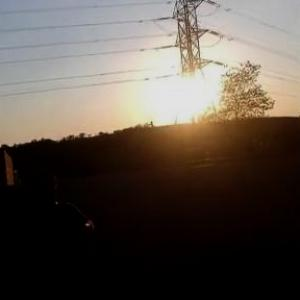follow: (16, 160, 99, 299)
